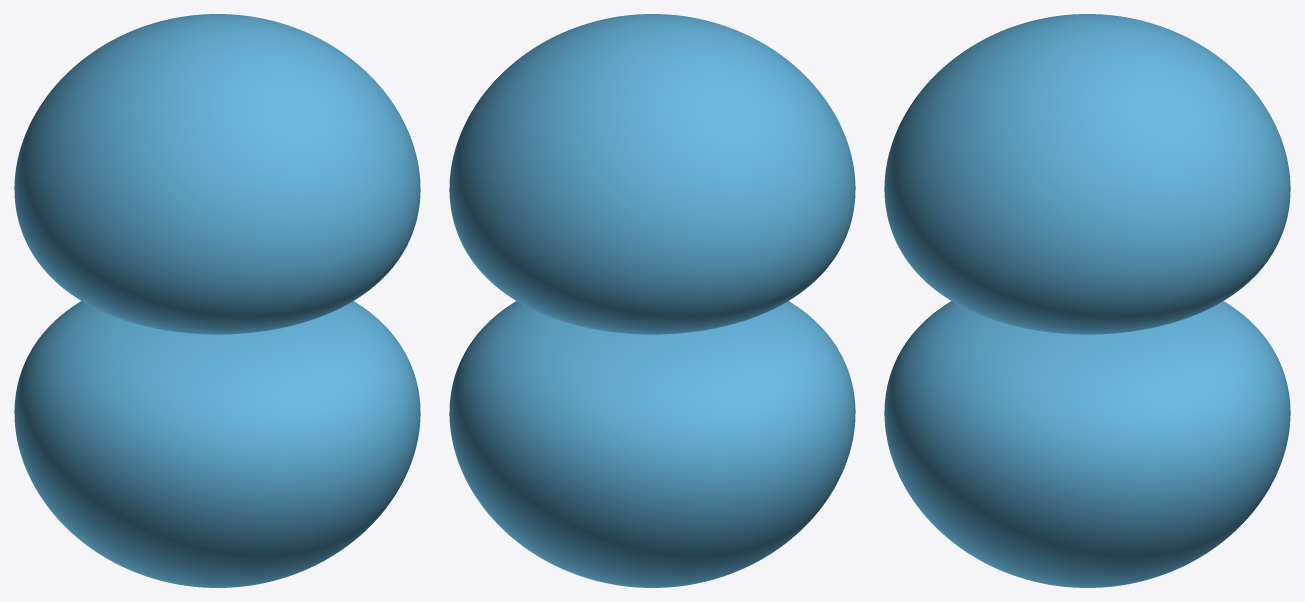
The picture shows the model from 3 angles, left to right: view 1: azimuth 30°, elevation 25°; view 2: azimuth 150°, elevation 25°; view 3: azimuth 270°, elevation 25°; orthographic projection.
Parts seen in each view (by area): view 1: Hydrogen 2p-z; view 2: Hydrogen 2p-z; view 3: Hydrogen 2p-z.
Part boxes in pixels (box(x1,y1,x2,y2)): Hydrogen 2p-z: box(14, 14, 420, 587); Hydrogen 2p-z: box(449, 14, 855, 587); Hydrogen 2p-z: box(884, 14, 1290, 587).
Bounding box in the file's own units: 6.69e-10 × 9.66e-10 × 6.69e-10.
